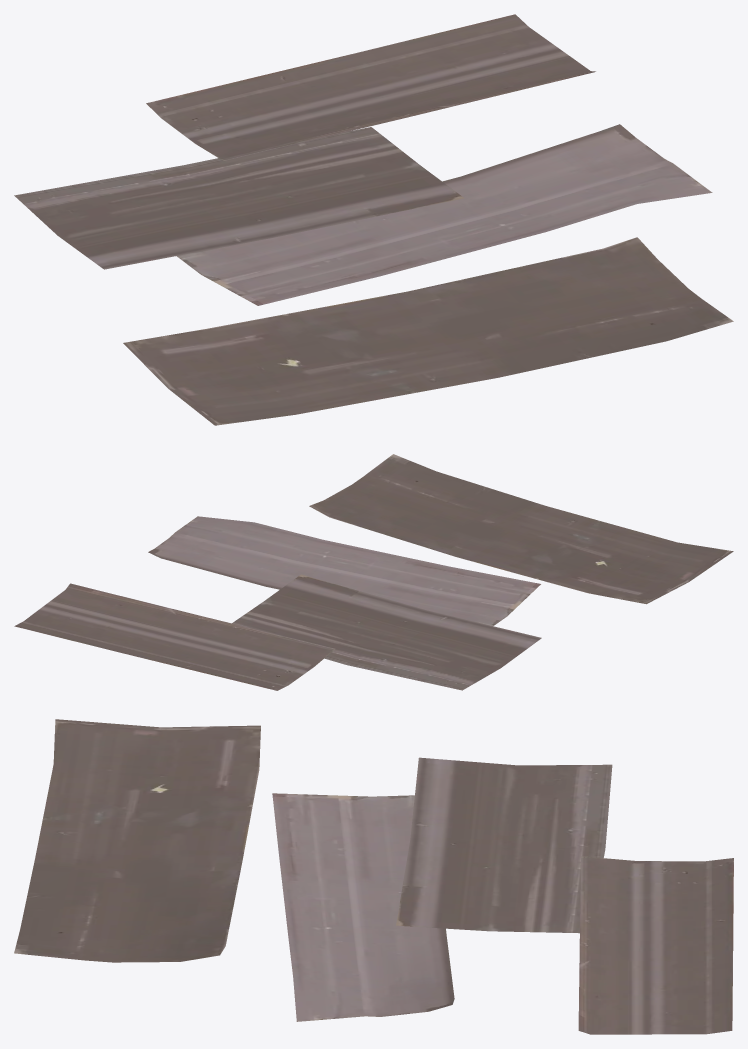
The picture shows the model from 3 angles, top to bottom: view 1: azimuth 30°, elevation 25°; view 2: azimuth 150°, elevation 25°; view 3: azimuth 270°, elevation 25°; orthographic projection. The views are drawn at different scales.
Parts seen in each view (by area): view 1: body0_model0_lod0_mesh0; view 2: body0_model0_lod0_mesh0; view 3: body0_model0_lod0_mesh0.
Boxes of the visible parts, x1,y1,x2,y2 form: body0_model0_lod0_mesh0: [14, 14, 733, 425]; body0_model0_lod0_mesh0: [14, 454, 733, 690]; body0_model0_lod0_mesh0: [14, 719, 733, 1034].
Size of the model in its own units: 253 by 4.98 by 251.
Materials: 1 (1 with a texture image).
